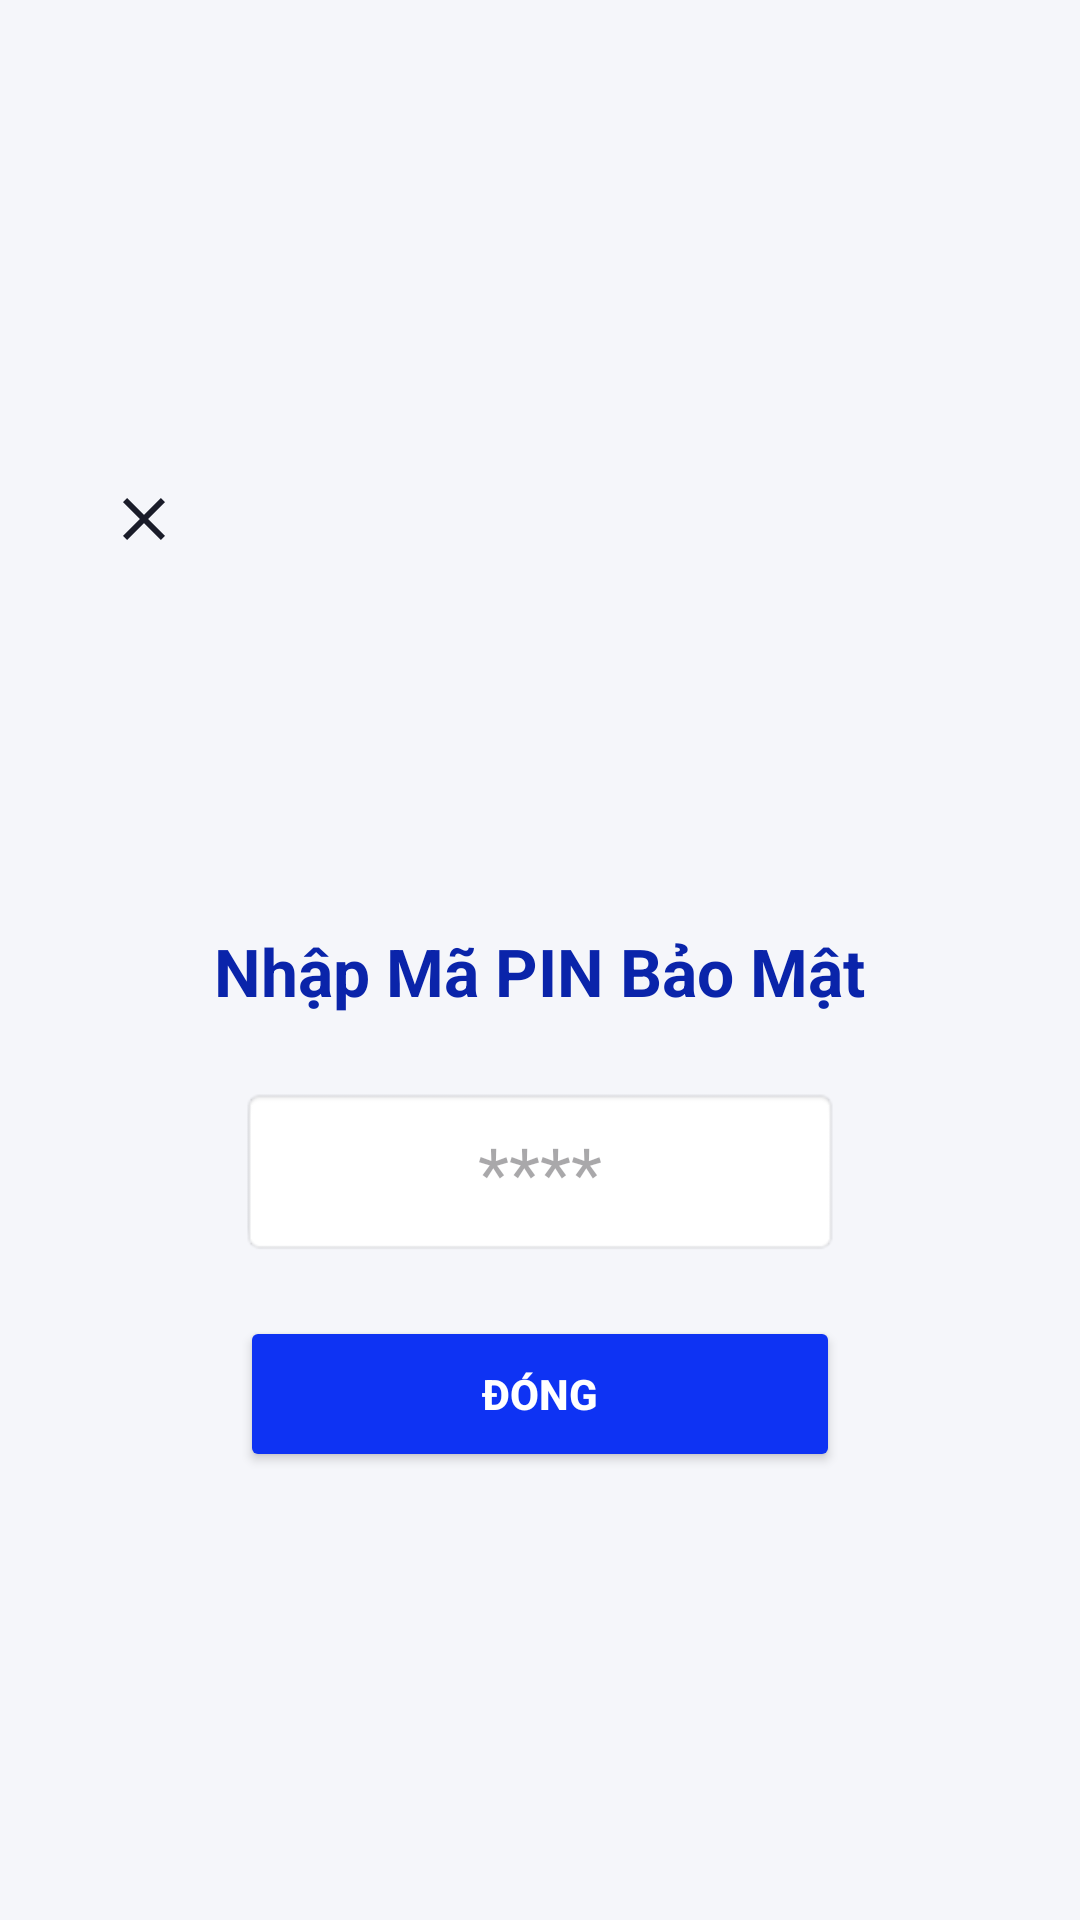

Named icons in this screenshot (1080 × 1920) and their bounding boxes, (x1, y1, x2, y2):
Close: (123, 498, 165, 540)
